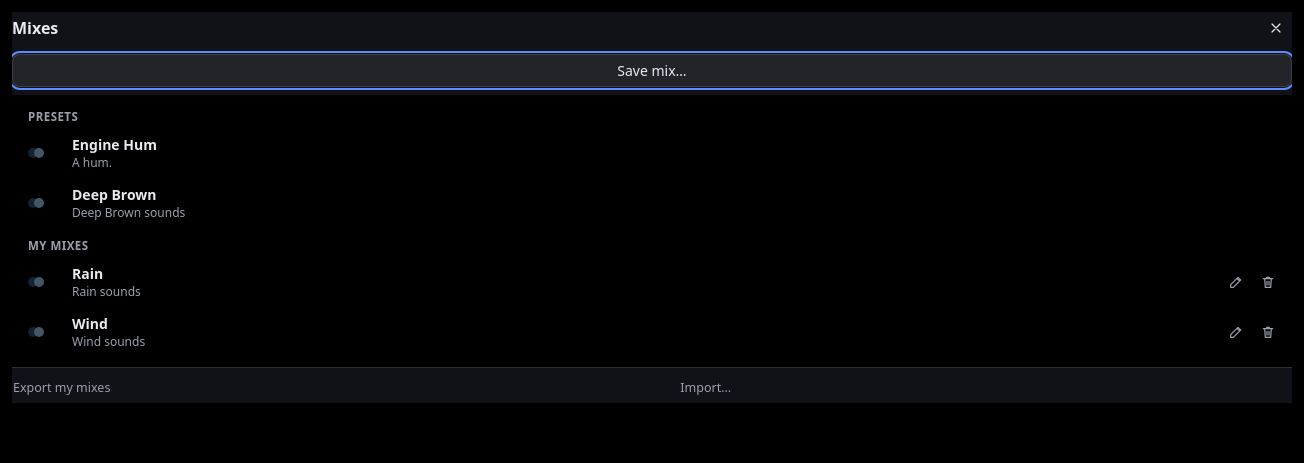
it: MixesView saving › cancels replacing
Click the button "Save mix…": (652, 70) [12, 54, 1292, 87]
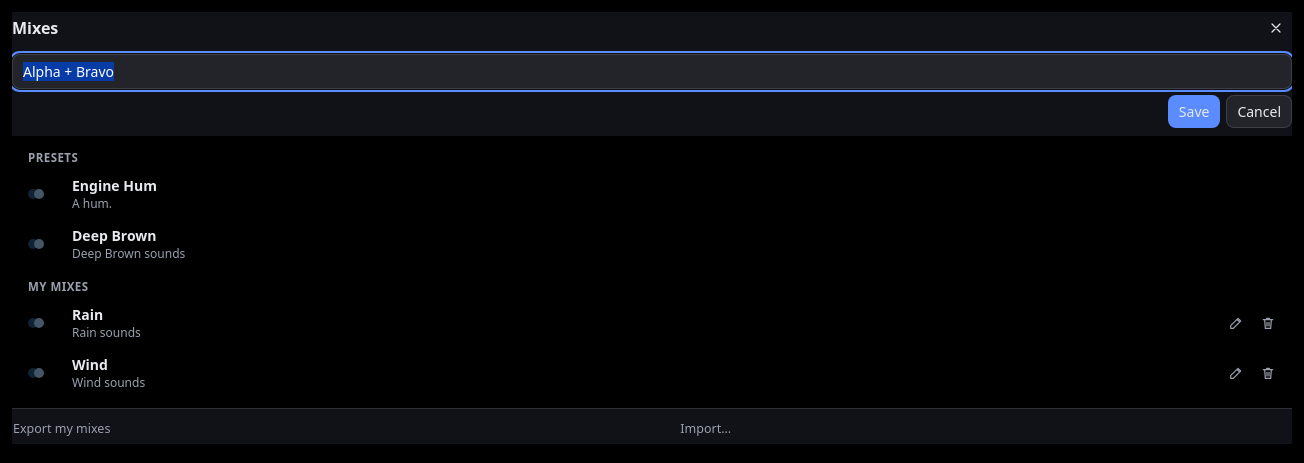
Replace the text in the field named "Mix name" with "Wind": (652, 72) [12, 54, 1292, 89]
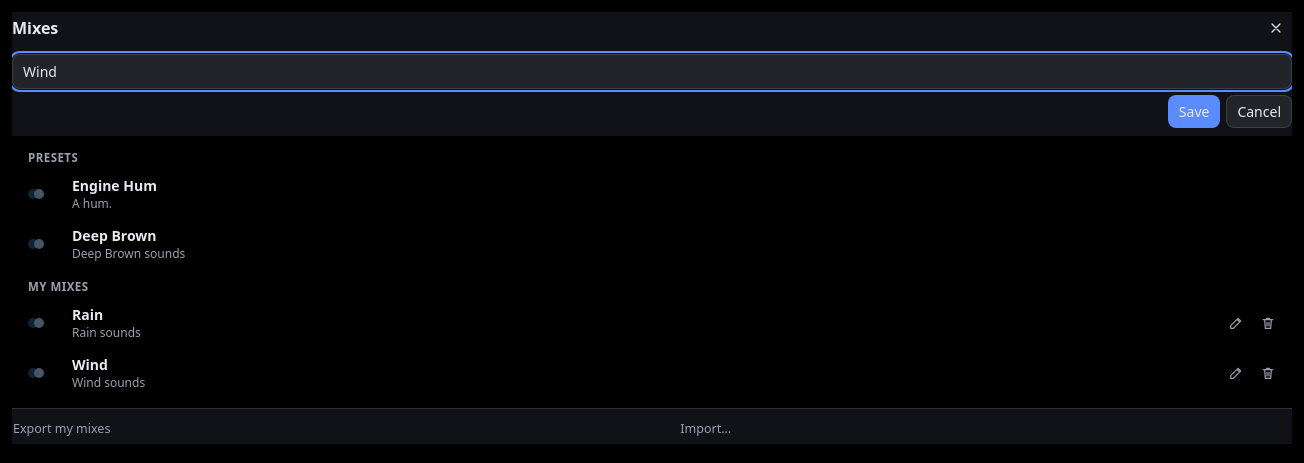
Submit the form from the field named "Mix name", box [12, 54, 1292, 89]
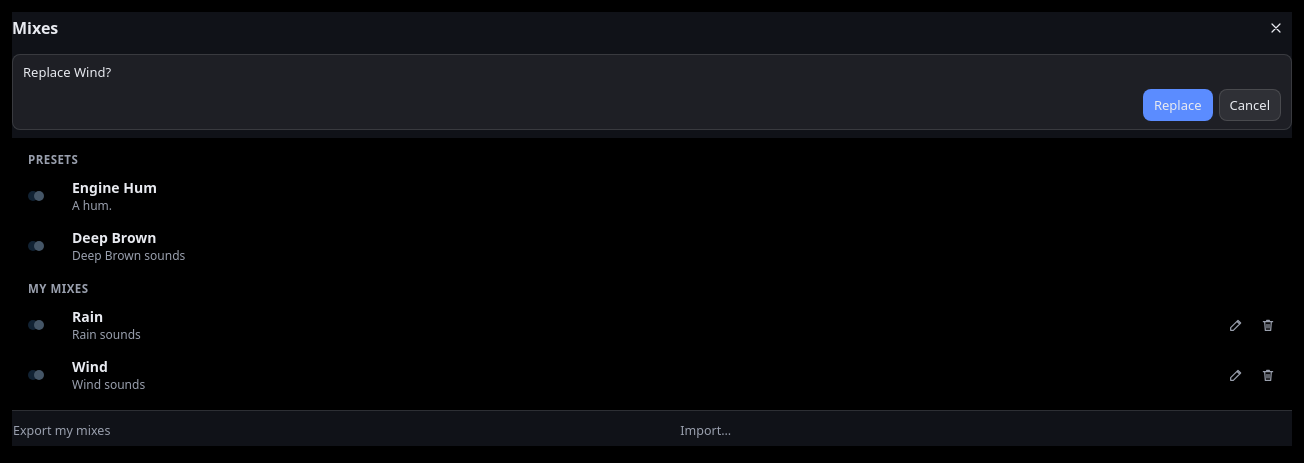
Click the button "Cancel": (1250, 105) [1218, 89, 1281, 121]
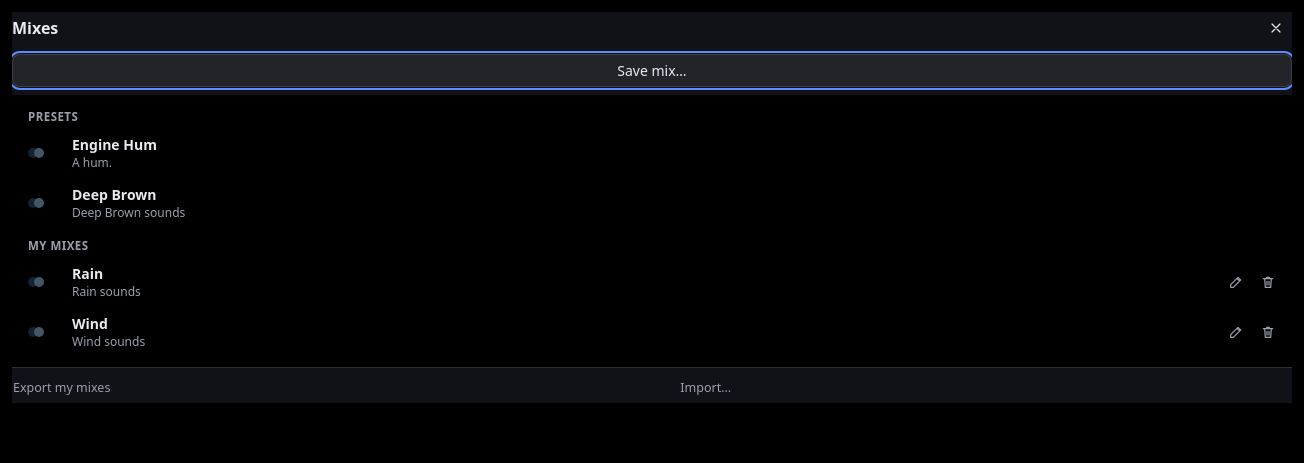
Now the button "Save mix…" is shown, box [12, 54, 1292, 87]
